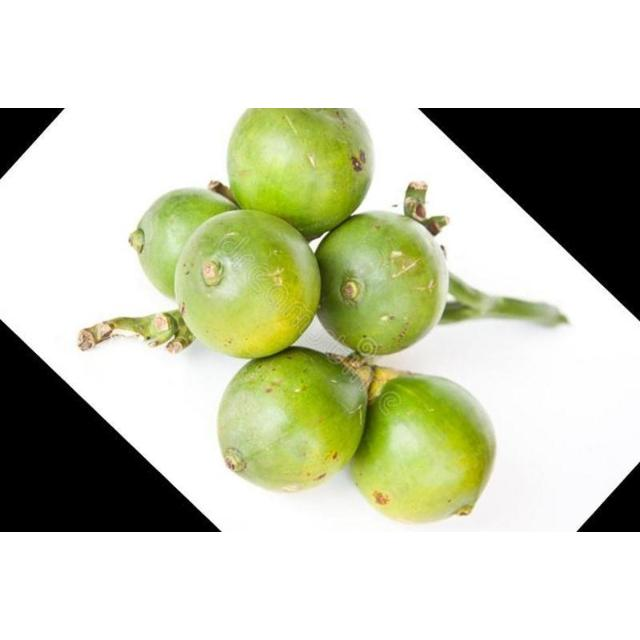good: (157, 211, 320, 357), (357, 372, 508, 528), (318, 197, 450, 359), (202, 358, 362, 490), (215, 114, 385, 220)
